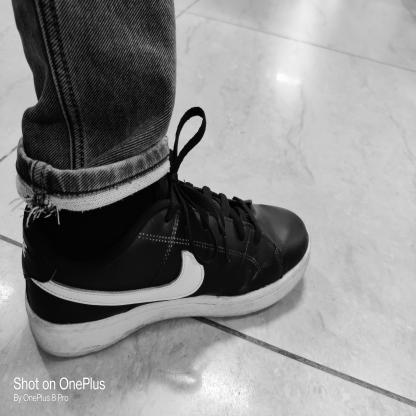ankle: (100, 240, 105, 249)
heel: (29, 301, 38, 309)
left_foot: (23, 181, 312, 358)
pinky: (271, 207, 275, 212)
toe: (296, 255, 302, 262)
